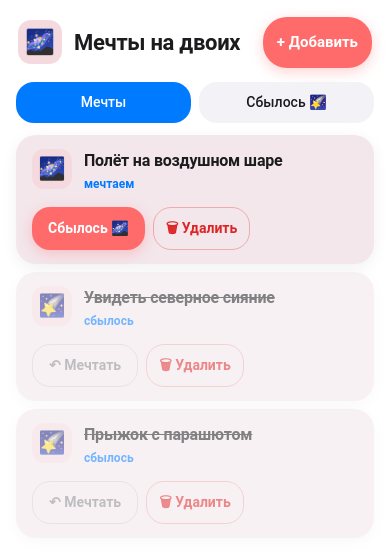
it: Bucket — fulfilled-dreams gallery (Bundle D Task 1) › fulfilled tab shows done items newest-first with 'сбылось {date}' label
Expected: the text "Полёт на воздушном шаре" is shown, [84,150,282,170]
Click the button "Сбылось 🌠": (286, 102) [199,82,374,122]
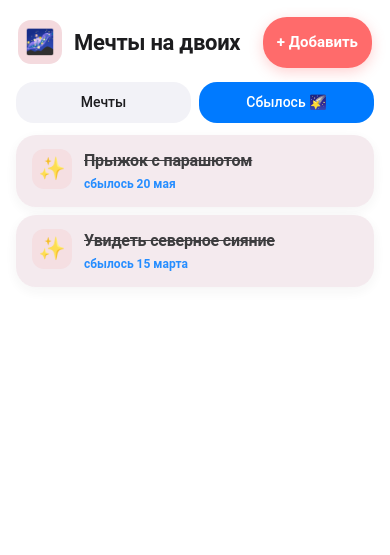
Now the text "Полёт на воздушном шаре" is gone
